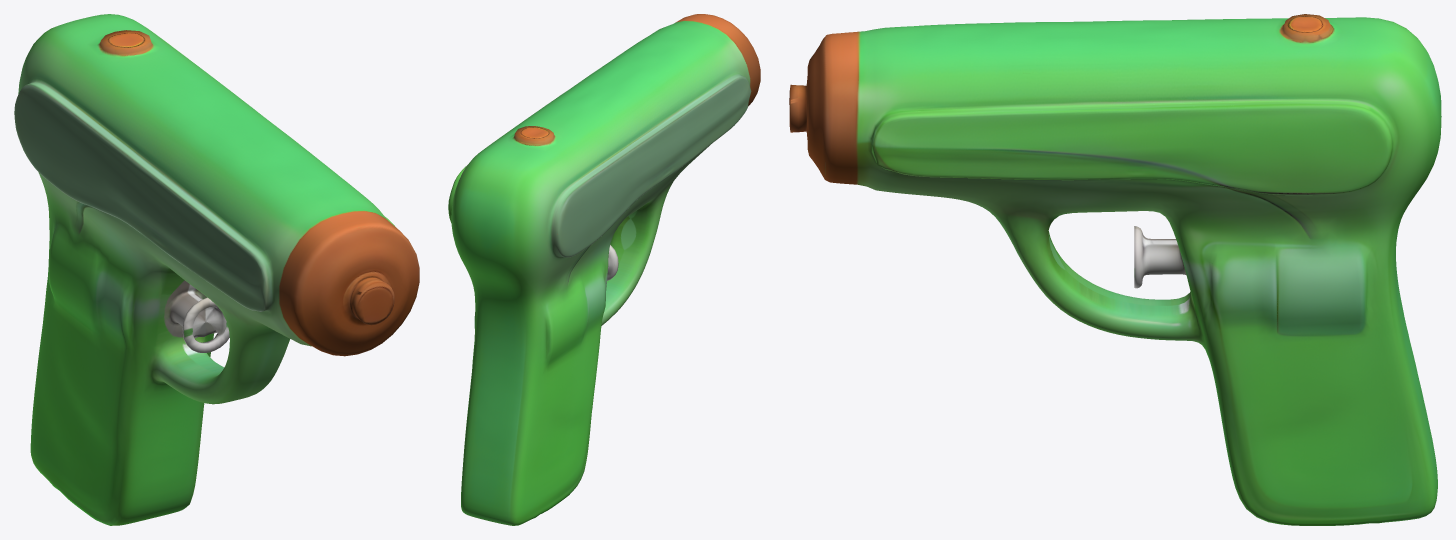
File: Emoji Watergun.fbx
3 renders of one model, left to right at view 1: azimuth 30°, elevation 25°; view 2: azimuth 150°, elevation 25°; view 3: azimuth 270°, elevation 25°, orthographic. The views are drawn at different scales.
Parts seen in each view (by area): view 1: model_LOD0; view 2: model_LOD0; view 3: model_LOD0.
Part boxes in pixels (x1,y1,x2,y2): model_LOD0: (14, 14, 419, 525); model_LOD0: (448, 14, 760, 525); model_LOD0: (789, 14, 1441, 525).
Bounding box in the file's own units: 190 × 50.97 × 156.
1 material, 1 textured.
